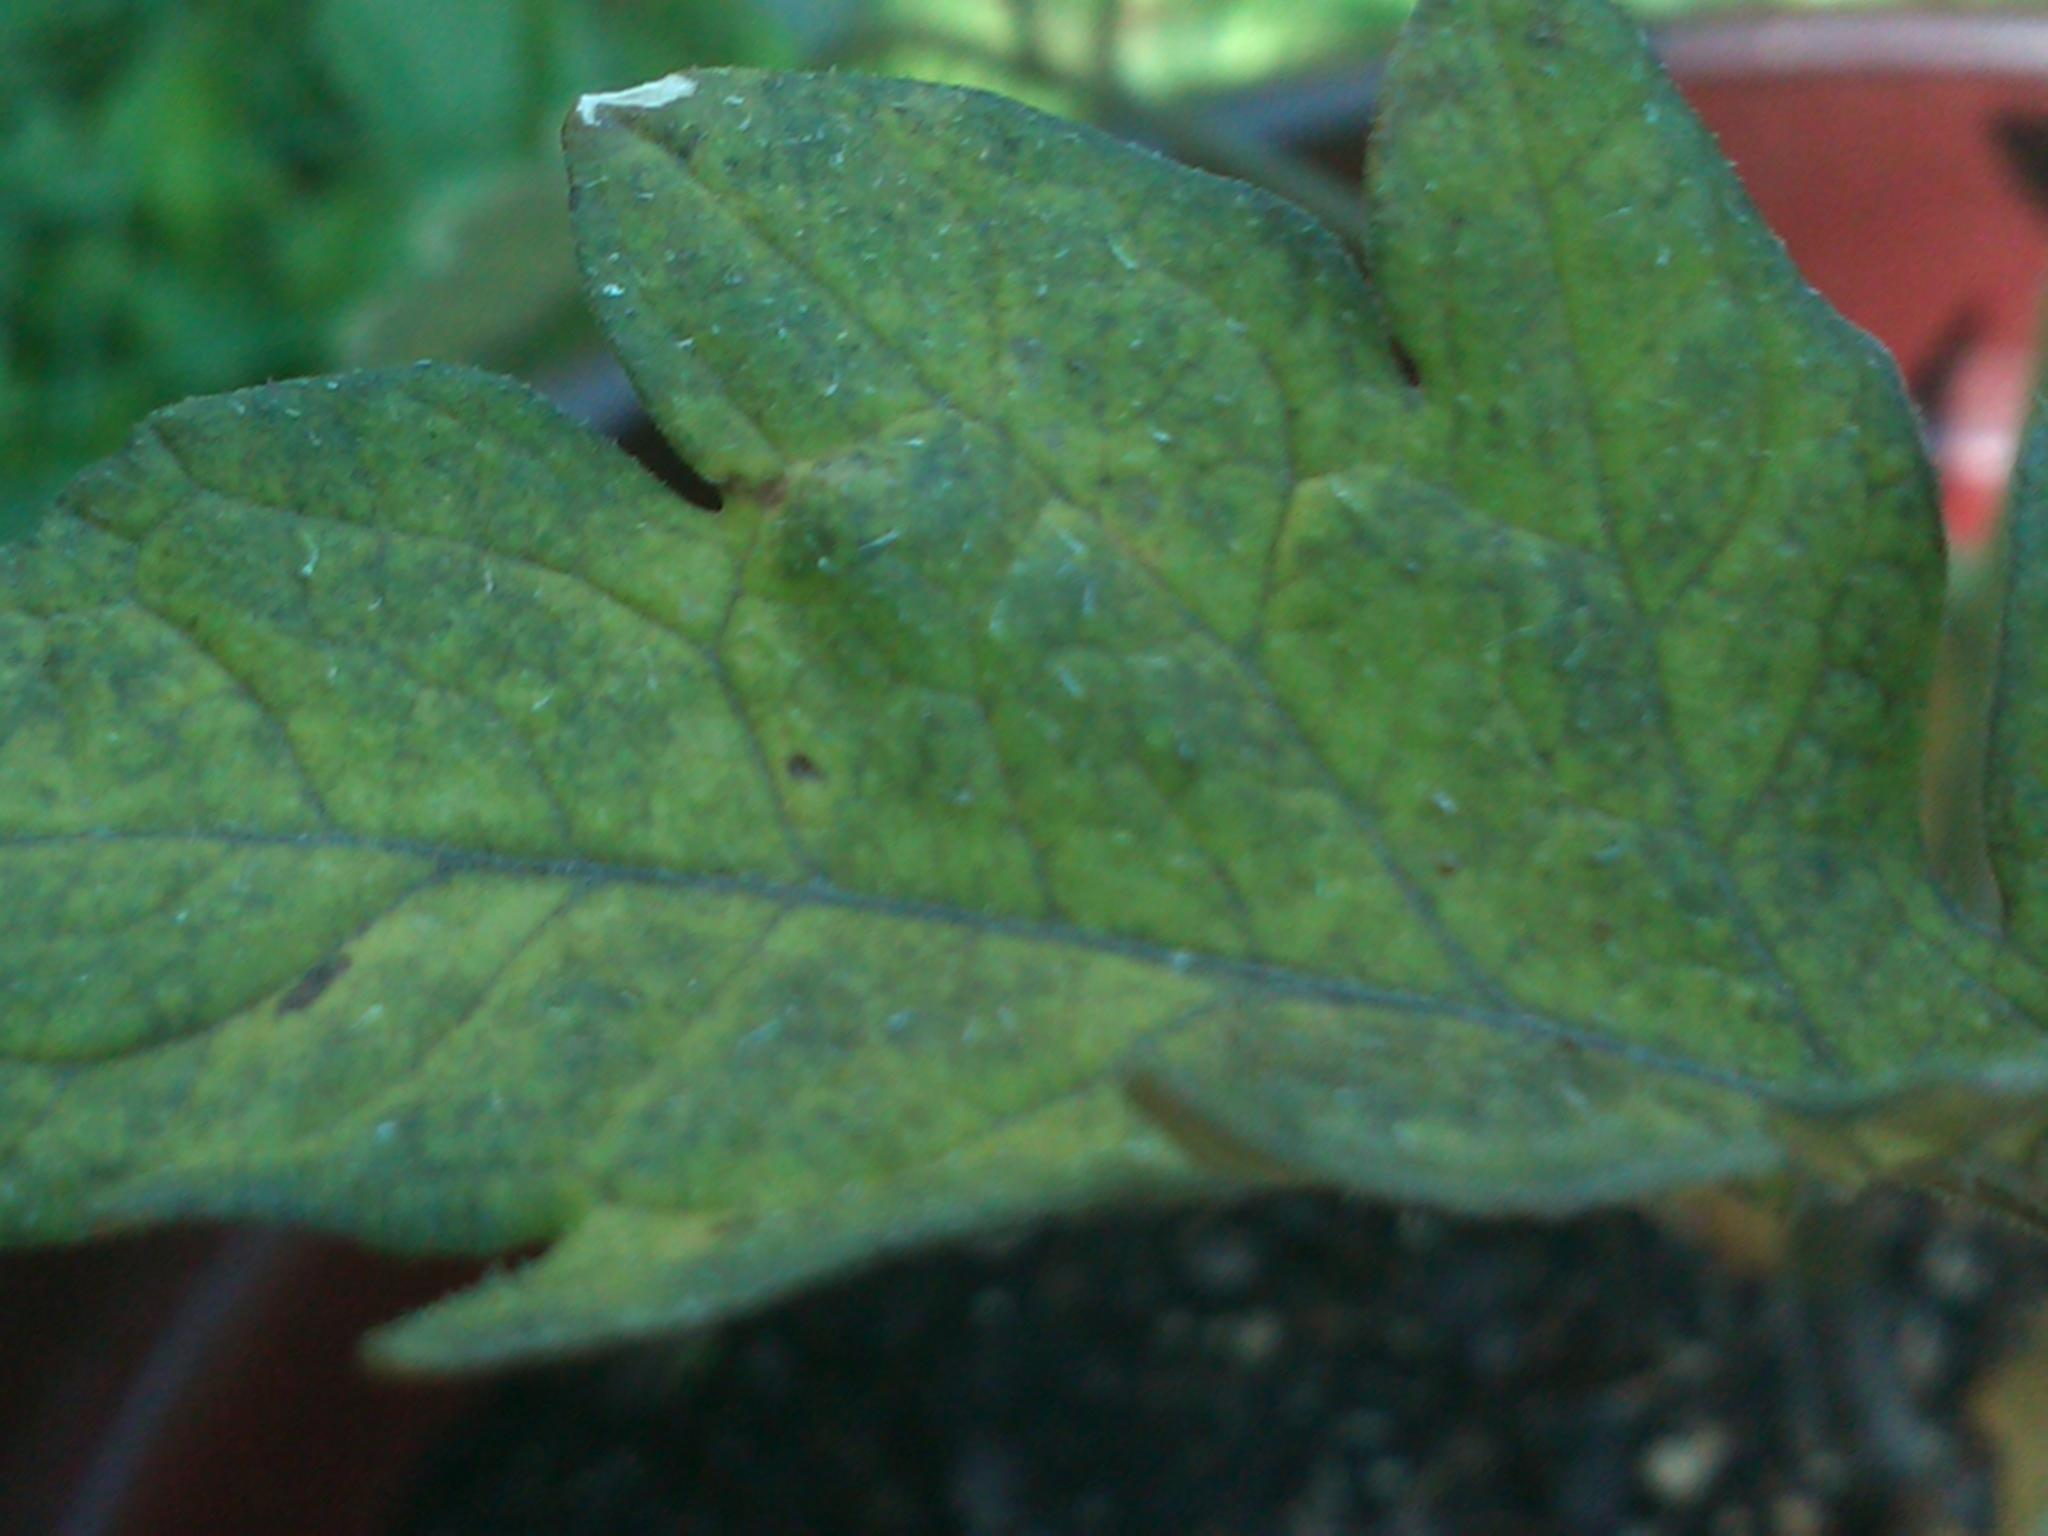Tomato mold leaf: (0, 26, 1974, 1449)
